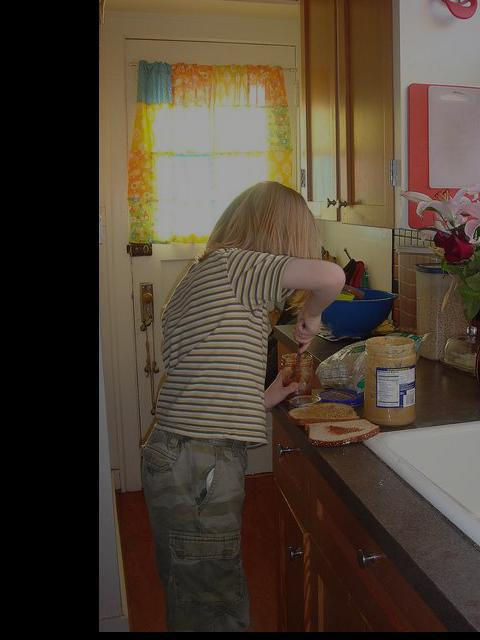Lavaplatos: (356, 359, 480, 611)
